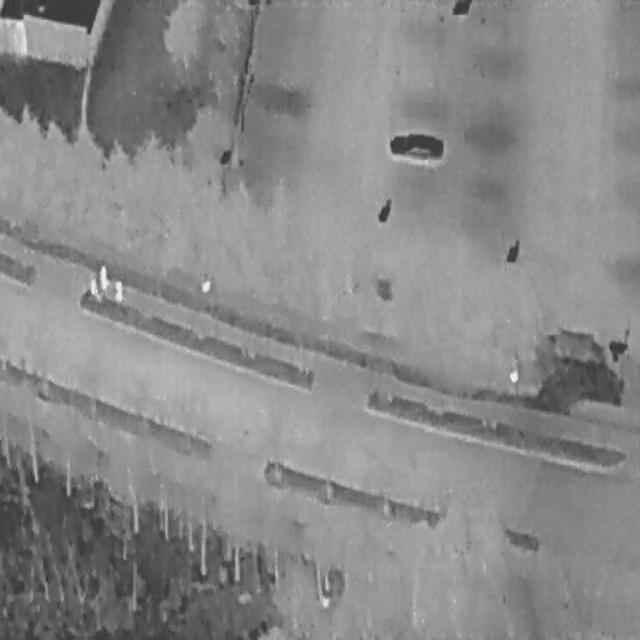Car: (535, 326, 622, 400), (387, 126, 445, 162)
Person: (99, 262, 108, 290), (89, 278, 99, 300), (114, 278, 123, 302)
